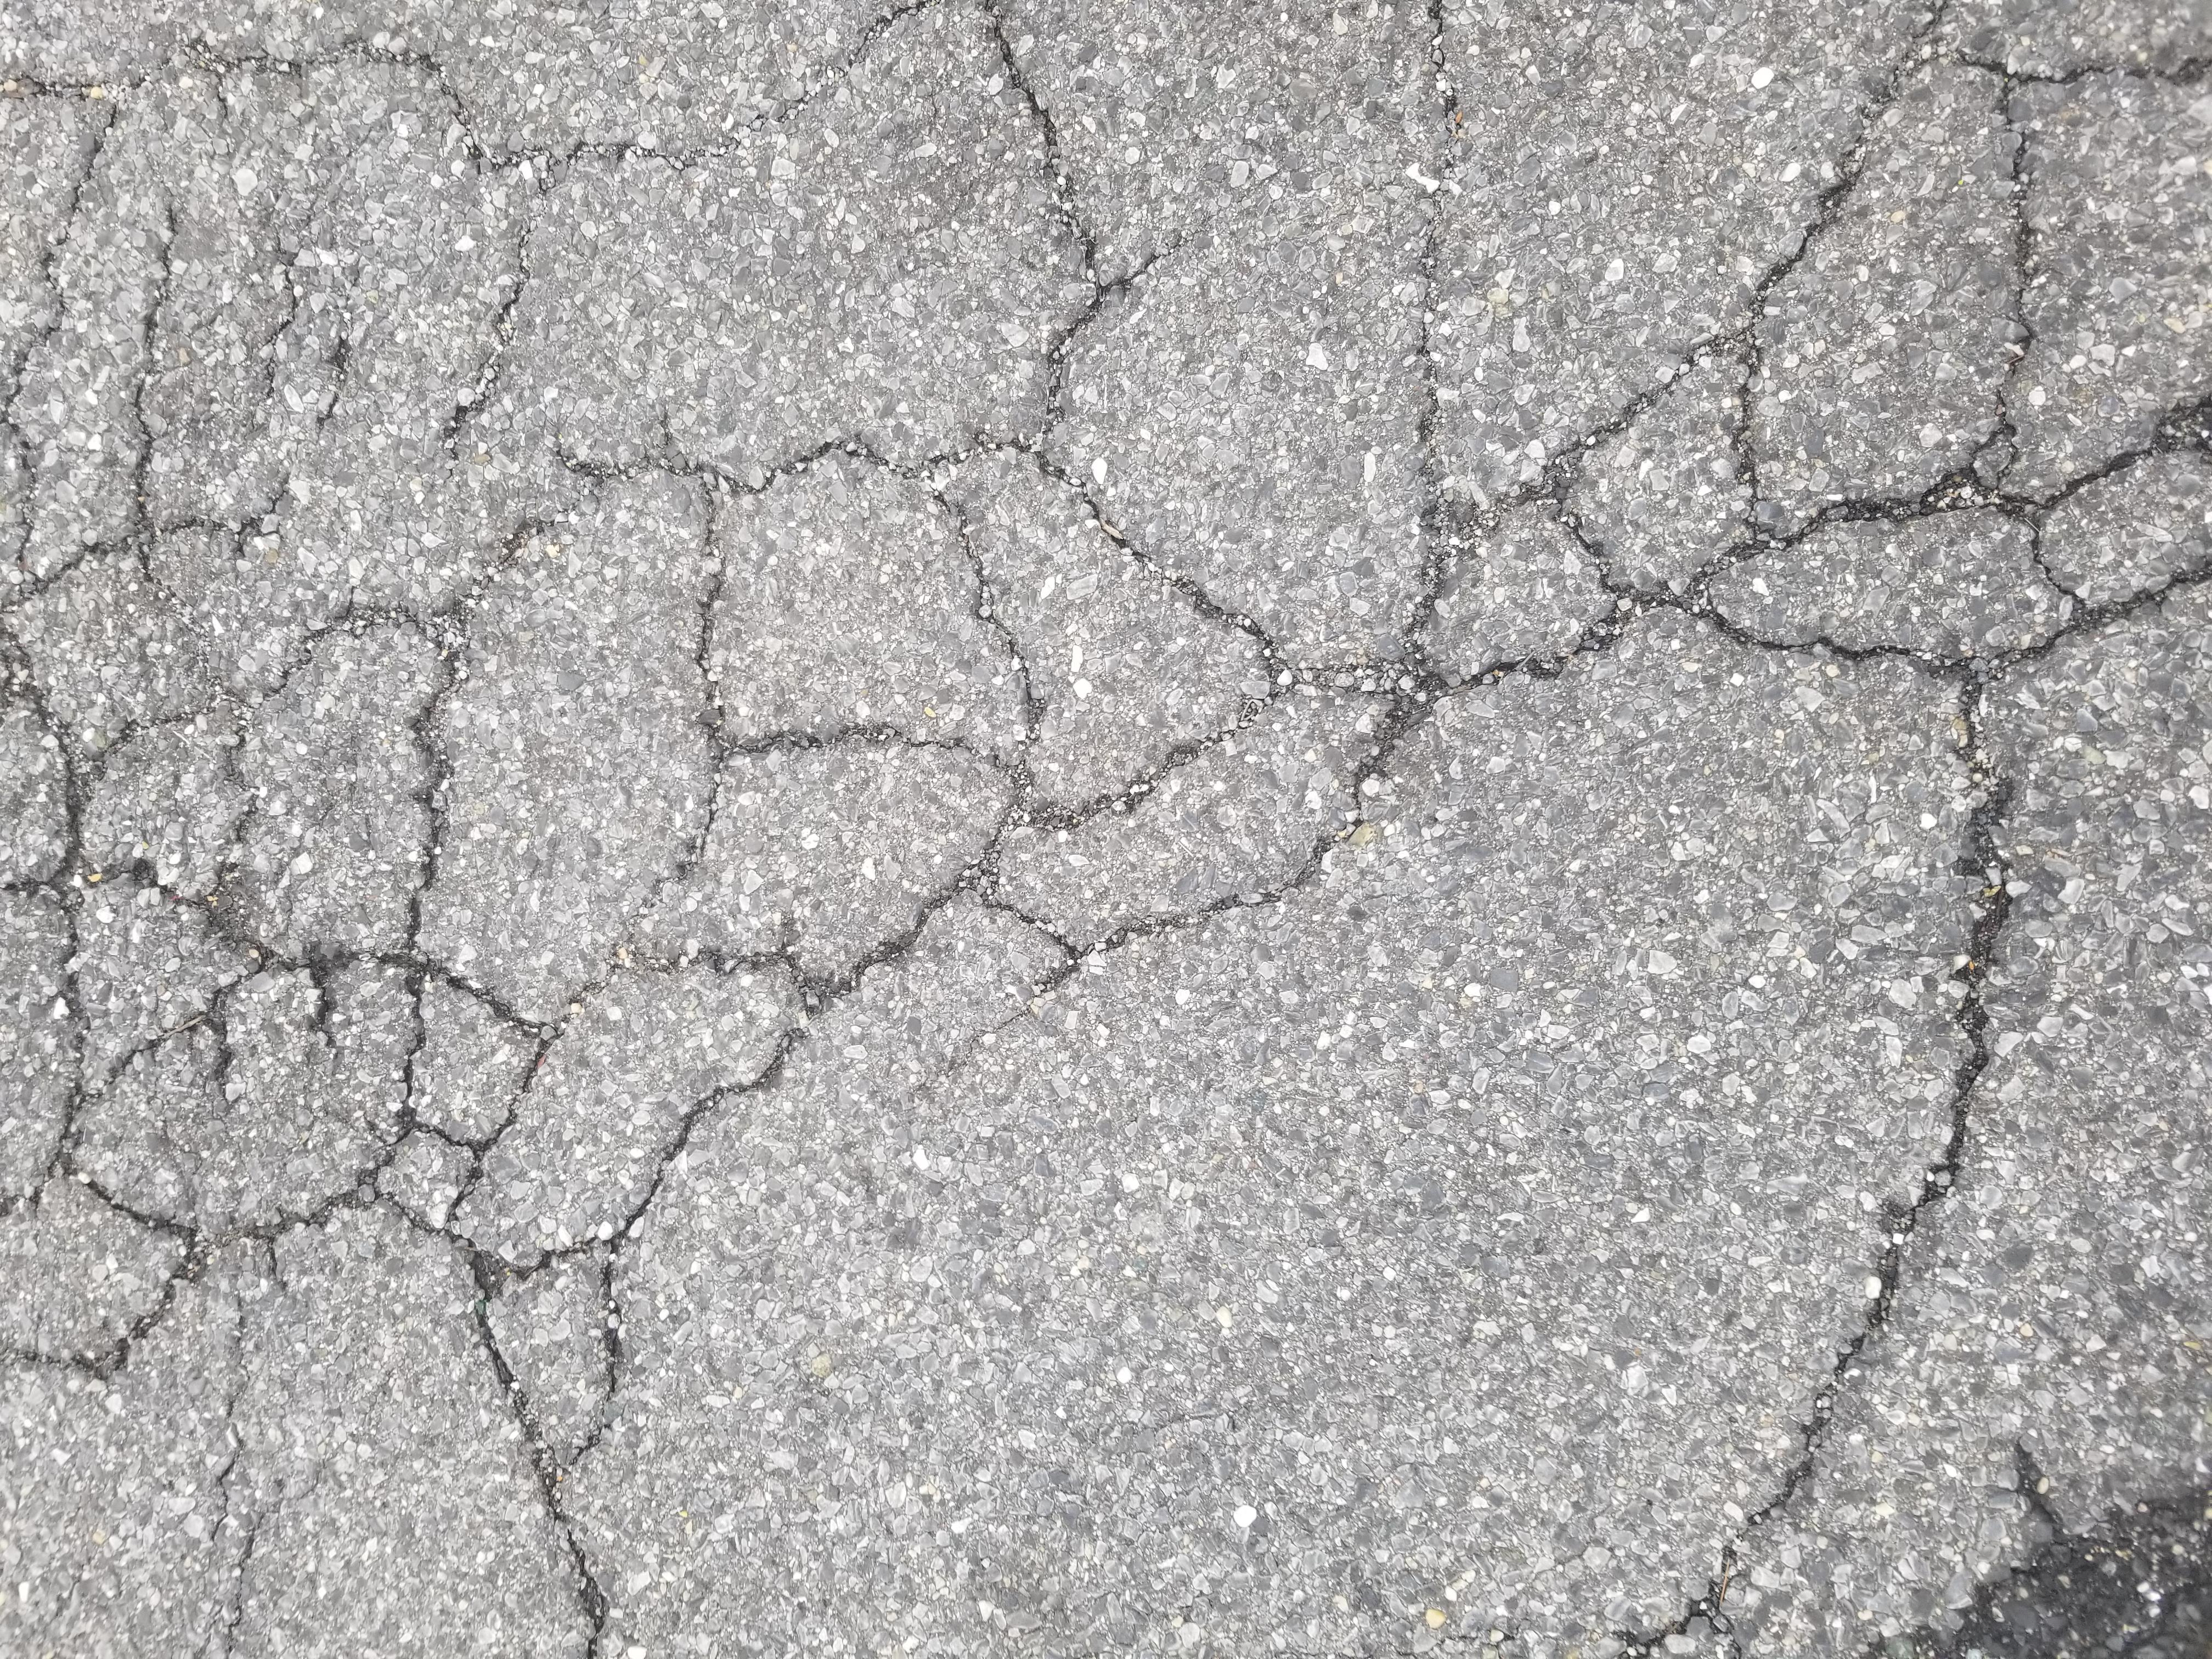alligator-crack: (284, 14, 2168, 1638)
